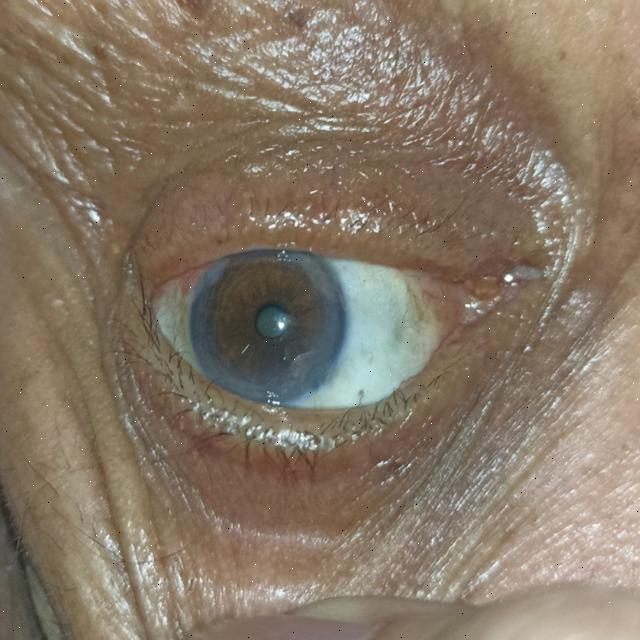Cataract: (192, 238, 344, 407)
